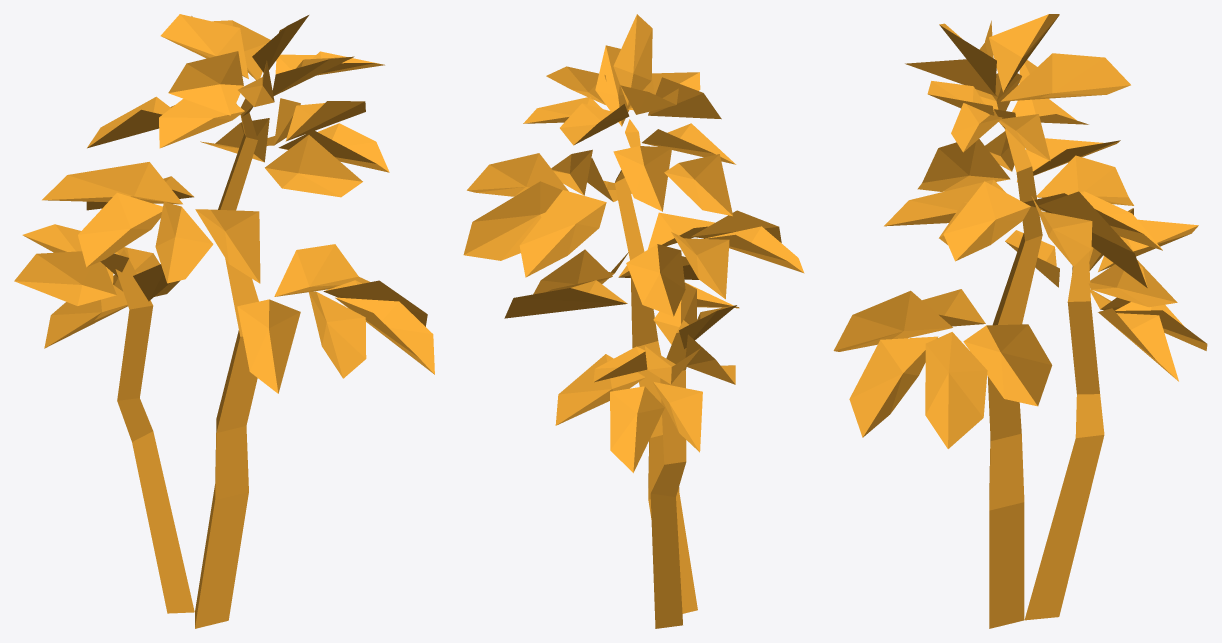
Rendered from SM_Potato_Plant_Young_B.fbx.
3 renders of one model, left to right at view 1: azimuth 30°, elevation 25°; view 2: azimuth 150°, elevation 25°; view 3: azimuth 270°, elevation 25°, orthographic. The views are drawn at different scales.
Parts seen in each view (by area): view 1: potato-plant-young-b; view 2: potato-plant-young-b; view 3: potato-plant-young-b.
Boxes of the visible parts, <box> form: potato-plant-young-b: <box>14,14,434,628</box>; potato-plant-young-b: <box>463,14,804,628</box>; potato-plant-young-b: <box>833,14,1207,628</box>.
Bounding box in the file's own units: 0.3834 × 0.69 × 0.3694.
